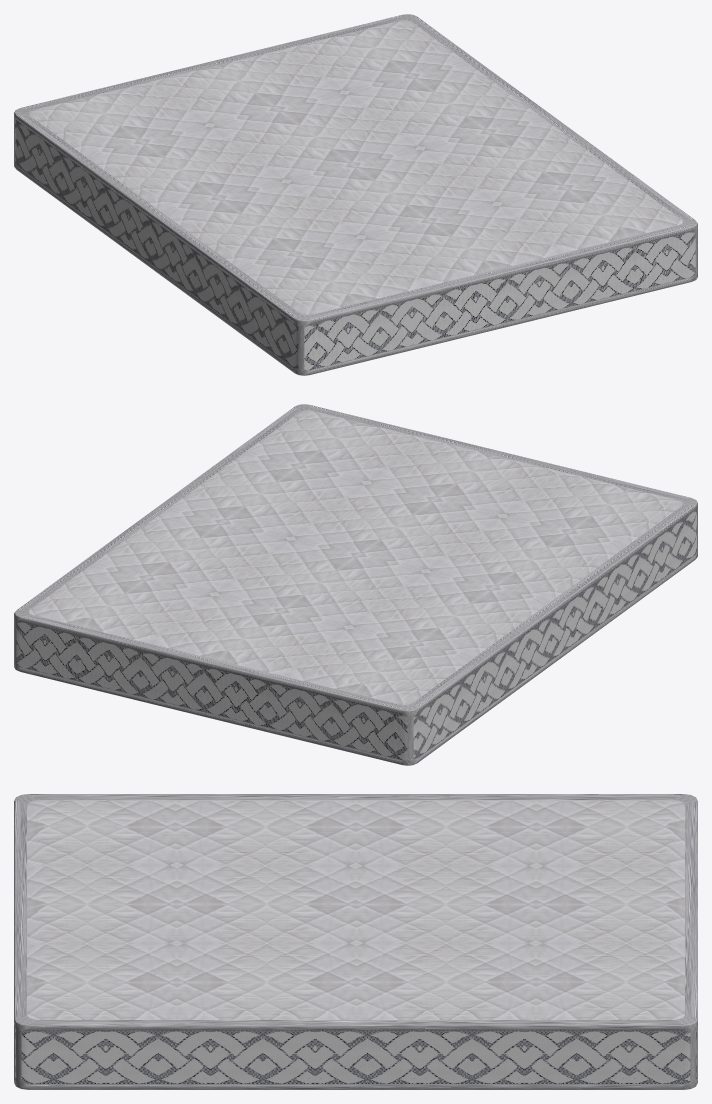
File: MattressAFull.fbx
The picture shows the model from 3 angles, top to bottom: view 1: azimuth 30°, elevation 25°; view 2: azimuth 150°, elevation 25°; view 3: azimuth 270°, elevation 25°; orthographic projection. The views are drawn at different scales.
Visible parts, largest first — view 1: MattressAFull; view 2: MattressAFull; view 3: MattressAFull.
Part boxes in pixels (x1,y1,x2,y2): MattressAFull: [14, 14, 697, 375]; MattressAFull: [14, 404, 697, 765]; MattressAFull: [14, 794, 697, 1089].
Bounding box in the file's own units: 210 × 30.62 × 263.
